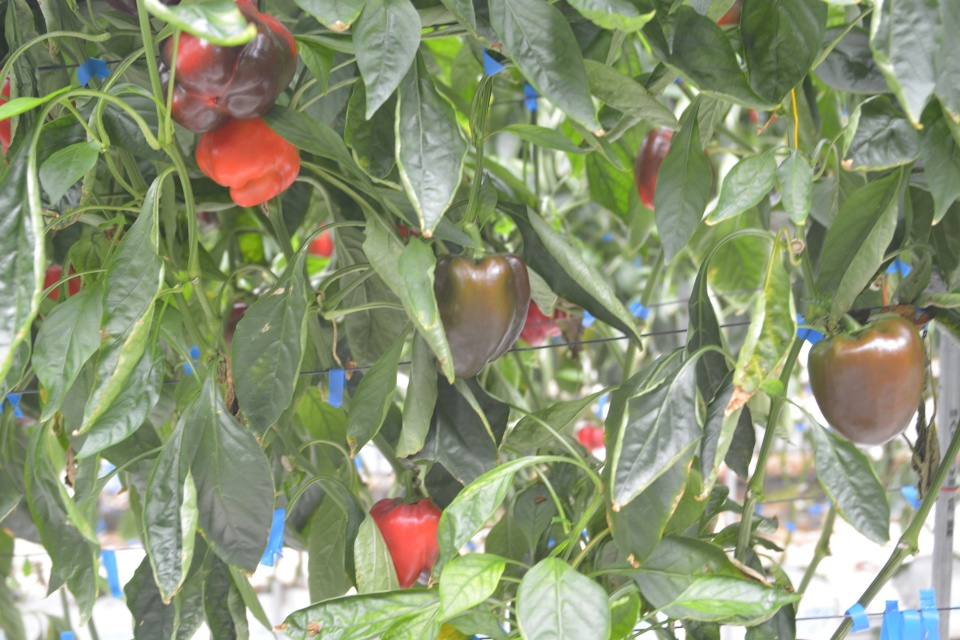fruit: (155, 0, 297, 136), (805, 315, 926, 446), (433, 252, 531, 381), (193, 113, 301, 209), (368, 494, 444, 587), (632, 132, 675, 210), (519, 298, 568, 344), (43, 262, 84, 300)
pedicle: (845, 320, 872, 334), (394, 496, 424, 506)
